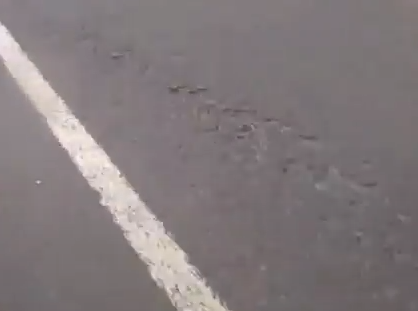Retak Memanjang: (45, 22, 418, 236)
